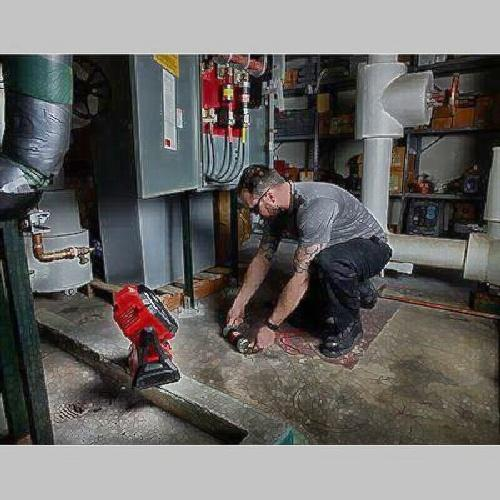fan: (107, 279, 196, 397)
